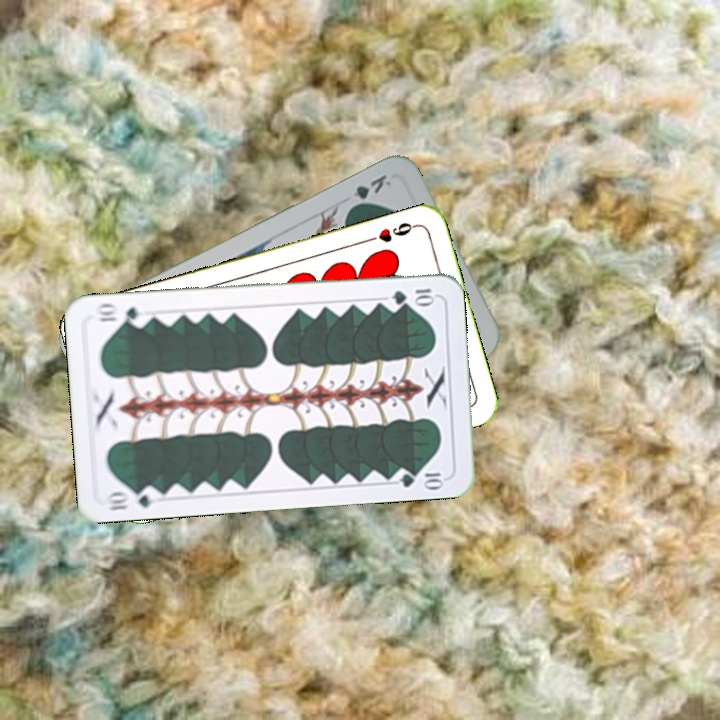G10: (102, 483, 161, 513), (388, 284, 437, 307)
GK: (344, 170, 394, 212)
H9: (362, 218, 420, 245)
